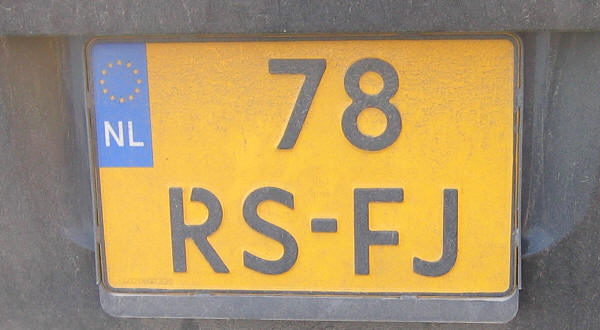license_plate: (87, 38, 522, 301)
